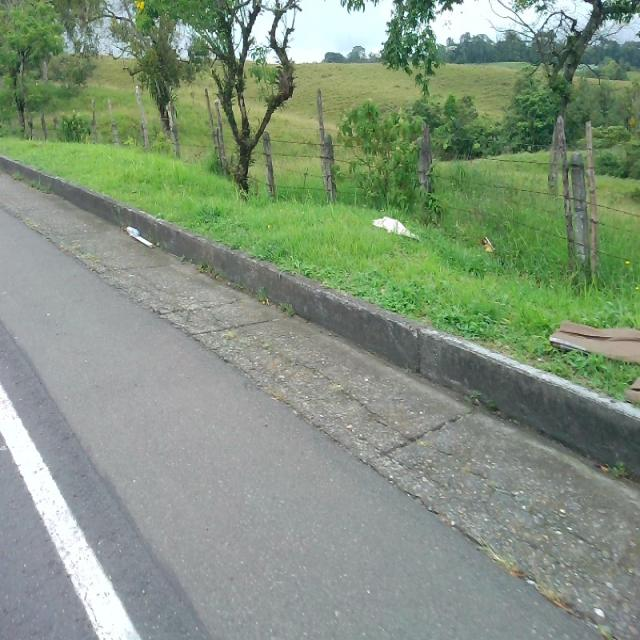DITCH: (1, 118, 638, 638), (1, 158, 639, 638)
